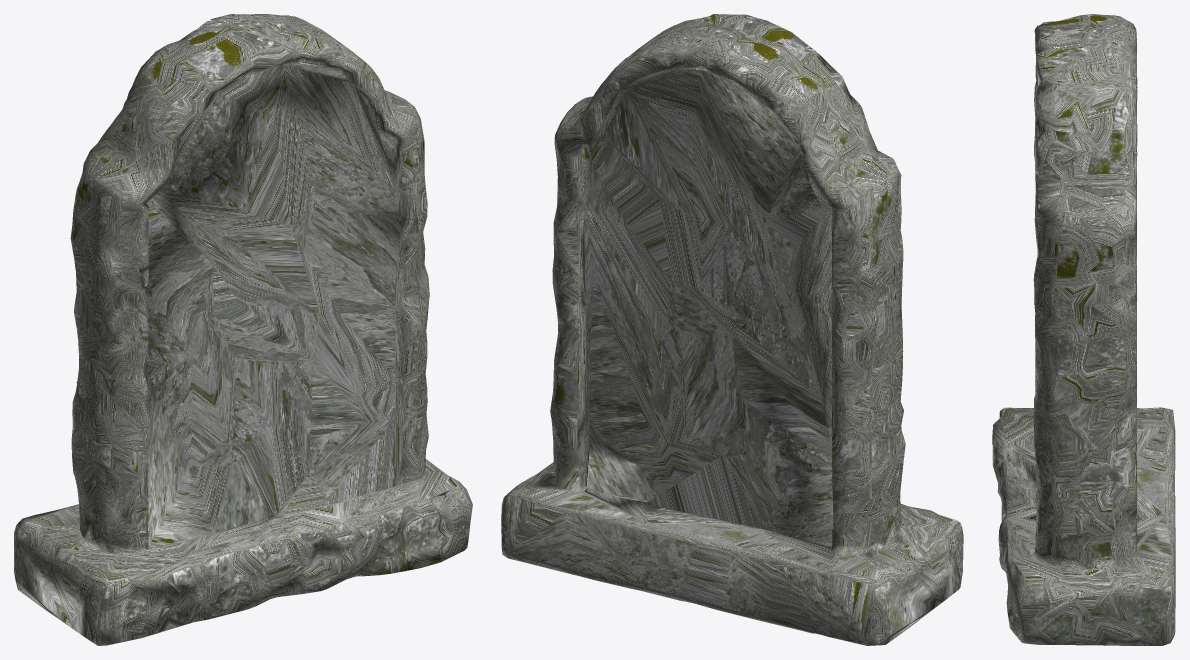
Rendered from gravestone-a.glb.
3 renders of one model, left to right at view 1: azimuth 30°, elevation 25°; view 2: azimuth 150°, elevation 25°; view 3: azimuth 270°, elevation 25°, orthographic. The views are drawn at different scales.
Bounding box in the file's own units: 1.41 × 1.89 × 0.5972.
Materials: 1 (1 with a texture image).
